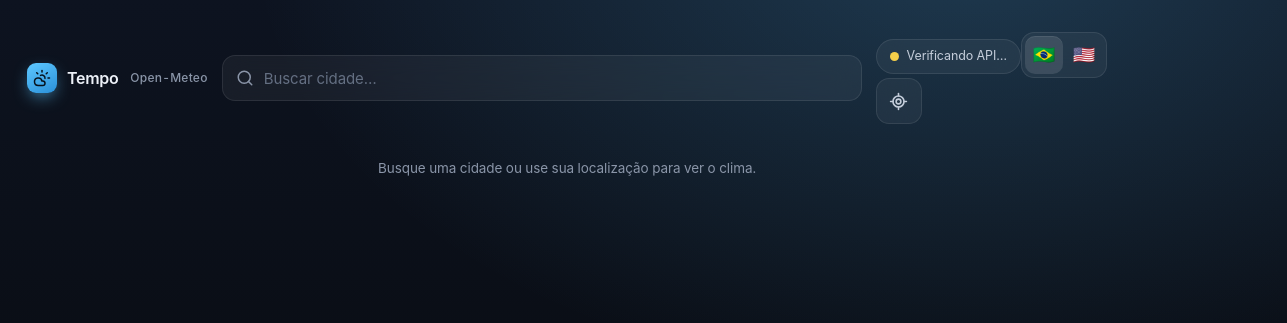
Test: WeatherDashboardPage › #11 shows correction guidance when no city matches
The width and height of the screenshot is (1287, 323).
In the dropdown: (556, 78) [264, 56, 848, 100], type "zzzzzz"
Wait 240 ms
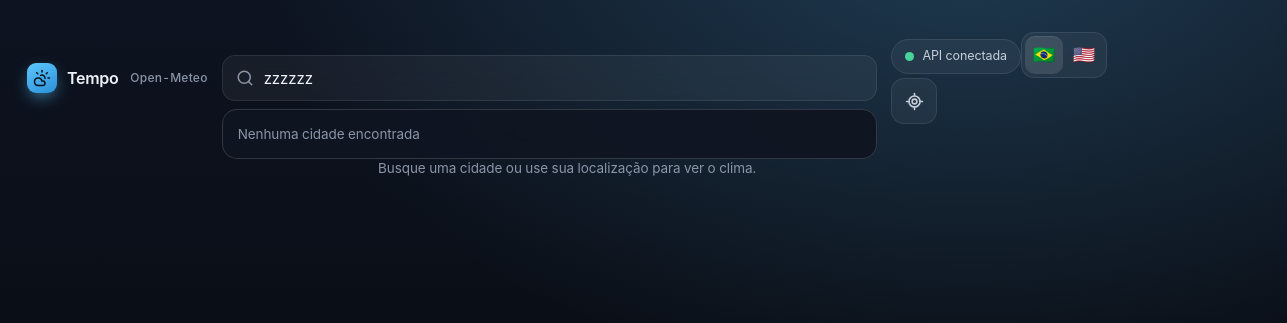
Check: the text "Nenhuma cidade encontrada" is shown, box [238, 126, 420, 142]
